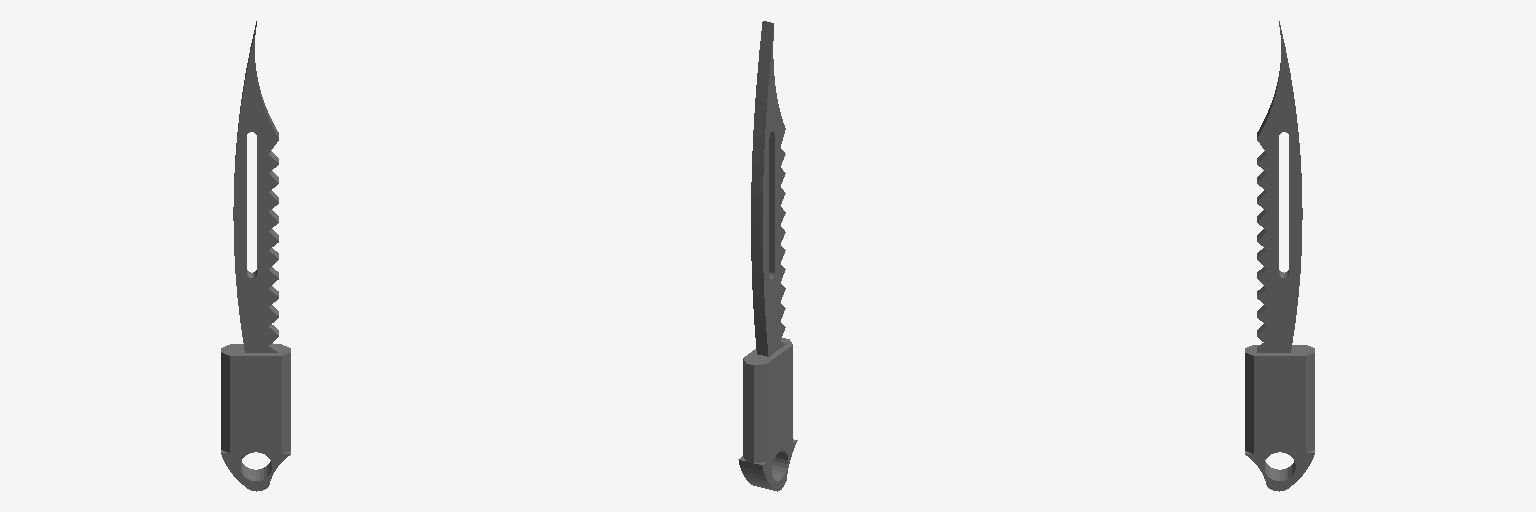
The robot description file, URDF, robot "object":
<?xml version="1.0"?>
<robot name="object">
  <link name="object">
    <visual>
      <origin xyz="0 0 0"/>
      <geometry>
        <mesh
          filename="../../mesh/oakink_virtual/knife_s329.stl" />
      </geometry>
      <material name="mat">
        <color rgba="0.5 0.5 0.5 1"/>
      </material>
    </visual>

    <collision>
      <origin xyz="0 0 0"/>
      <geometry>
        <mesh
          filename="../../mesh/oakink_virtual/knife_s329.stl" />
      </geometry>
    </collision>
  </link>
</robot>

--- What the picture shows (computed from the rendered views, not written in the file) ---
The picture shows the robot from 3 angles, left to right: view 1: azimuth 90°, elevation 25°; view 2: azimuth 150°, elevation 25°; view 3: azimuth 270°, elevation 25°; orthographic projection.
Model object with 1 links and 0 joints (none), rooted at object, posed all joints at 0.
Visible links, largest first — view 1: object; view 2: object; view 3: object.
Link boxes in pixels (x1,y1,x2,y2): object: (221, 21, 290, 491); object: (738, 21, 797, 491); object: (1245, 21, 1314, 491).
Size in the robot's own frame: 0.0131 by 0.0337 by 0.244 metres.
Meshes: 1 distinct files referenced, 1 mesh visuals loaded (1 binary STL).